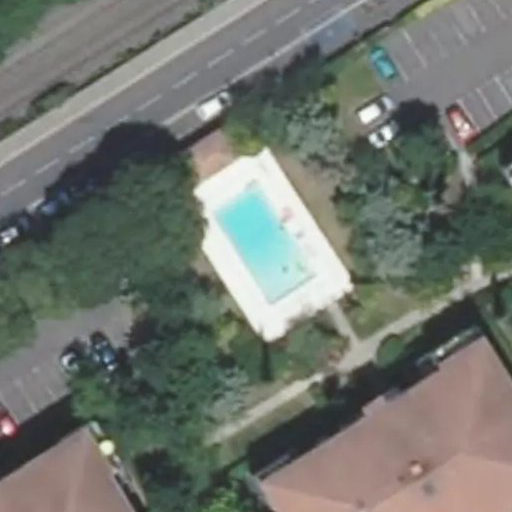pool: (198, 209, 314, 273)
